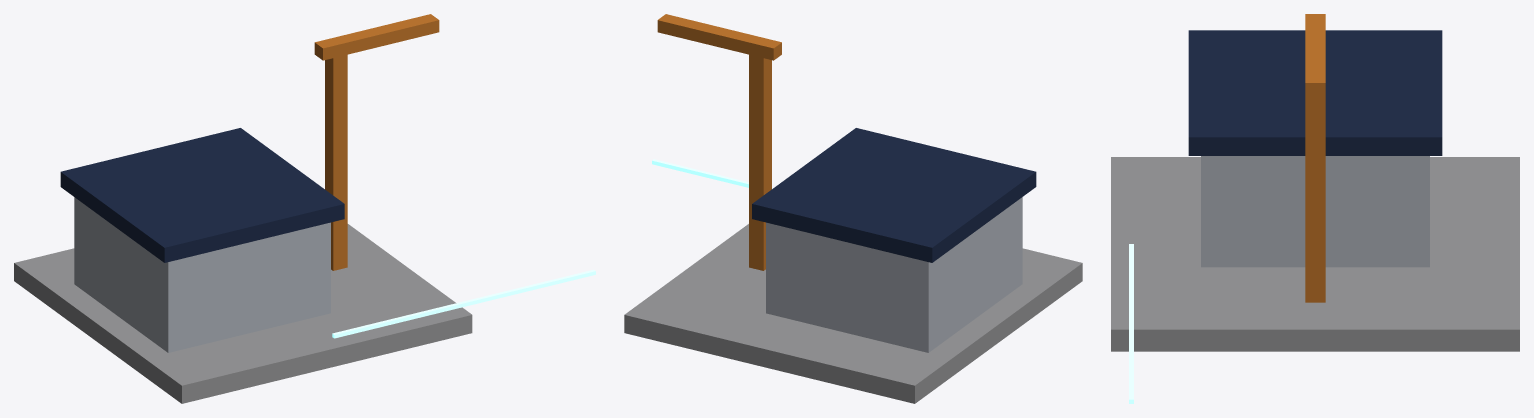
File: port_2030.glb
3 views of the same model, side by side, from view 1: azimuth 30°, elevation 25°; view 2: azimuth 150°, elevation 25°; view 3: azimuth 270°, elevation 25° (orthographic). The views are drawn at different scales.
Parts seen in each view (by area): view 1: Quay, Warehouse, WarehouseRoof, CraneMast, CraneJib, Glow; view 2: Quay, Warehouse, WarehouseRoof, CraneMast, CraneJib, Glow; view 3: Quay, WarehouseRoof, Warehouse, CraneMast, CraneJib, Glow.
Part boxes in pixels (box(x1,y1,x2,y2)): Quay: box(14, 224, 472, 403); Warehouse: box(74, 197, 330, 352); WarehouseRoof: box(60, 128, 344, 262); CraneMast: box(325, 36, 347, 270); CraneJib: box(314, 14, 439, 60); Glow: box(332, 269, 595, 338); Quay: box(624, 224, 1082, 403); Warehouse: box(766, 197, 1022, 352); WarehouseRoof: box(752, 128, 1036, 262); CraneMast: box(749, 36, 771, 270); CraneJib: box(657, 14, 781, 60); Glow: box(652, 159, 772, 188); Quay: box(1111, 157, 1519, 351); WarehouseRoof: box(1188, 30, 1442, 155); Warehouse: box(1201, 156, 1429, 267); CraneMast: box(1305, 20, 1325, 302); CraneJib: box(1305, 14, 1325, 97); Glow: box(1129, 244, 1133, 403).
Bounding box in the file's own units: 1.45 × 0.8 × 1.
